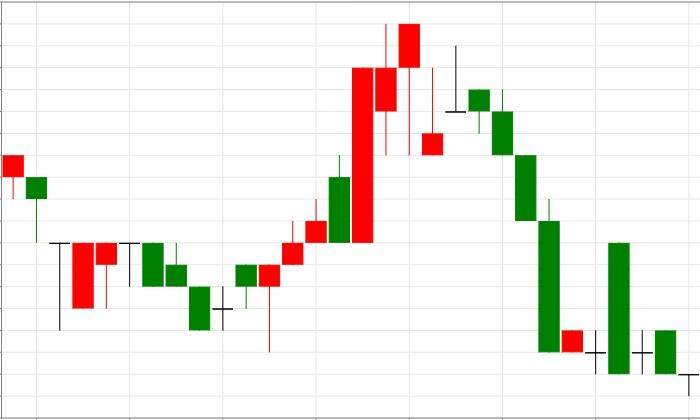hammer_rise: (1, 154, 118, 330)
hanging_man_fall: (189, 24, 420, 353)
three_black_crows_fall: (421, 44, 537, 222)
